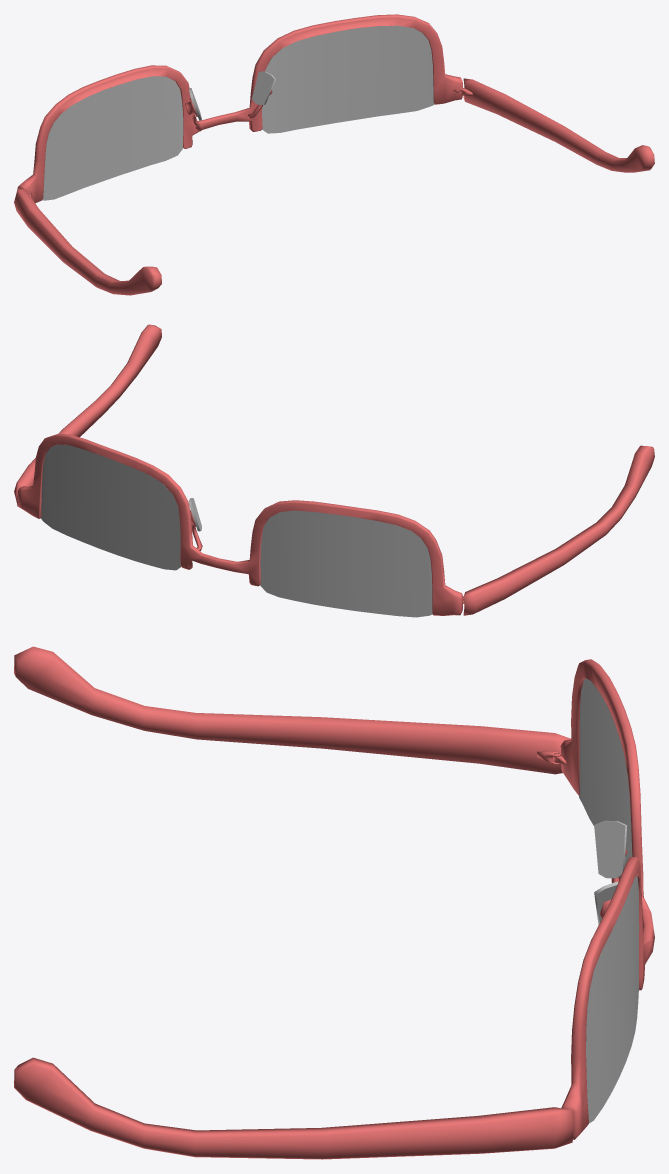
File: kao_megane_07.dae
The picture shows the model from 3 angles, top to bottom: view 1: azimuth 30°, elevation 25°; view 2: azimuth 150°, elevation 25°; view 3: azimuth 270°, elevation 25°; orthographic projection. The views are drawn at different scales.
Parts seen in each view (by area): view 1: o_glasses_typeU_lens_0, o_glasses_typeU_00_0; view 2: o_glasses_typeU_lens_0, o_glasses_typeU_00_0; view 3: o_glasses_typeU_00_0, o_glasses_typeU_lens_0.
Part boxes in pixels (left/top/right/bottom): o_glasses_typeU_lens_0: left=42, top=25, right=434, bottom=200; o_glasses_typeU_00_0: left=14, top=14, right=654, bottom=295; o_glasses_typeU_lens_0: left=41, top=444, right=432, bottom=617; o_glasses_typeU_00_0: left=14, top=324, right=654, bottom=615; o_glasses_typeU_00_0: left=14, top=646, right=654, bottom=1159; o_glasses_typeU_lens_0: left=579, top=678, right=639, bottom=1123.
Size of the model in its own units: 0.2121 by 0.1347 by 0.0402.
